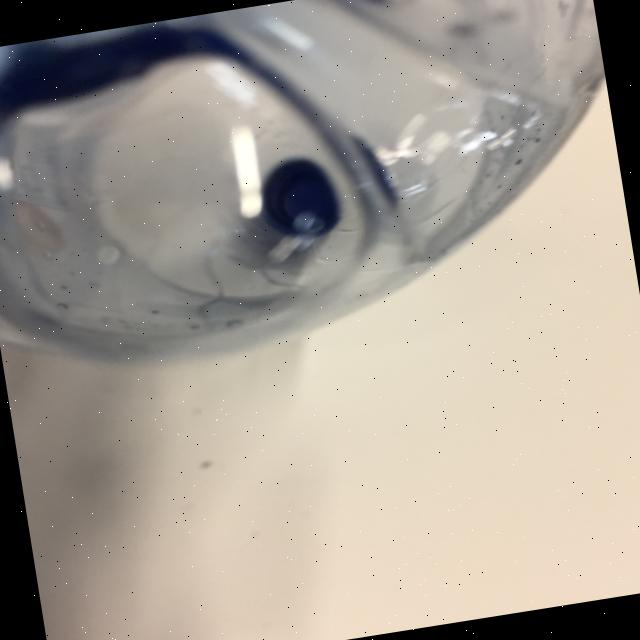plastic: (0, 0, 638, 391)
